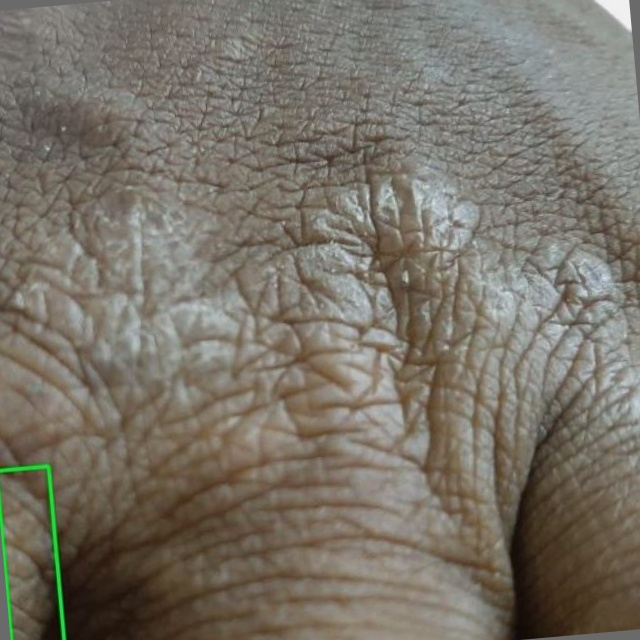Contact Dermatitis: (0, 466, 63, 639)
